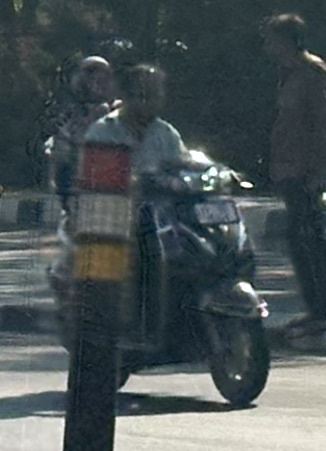BikeWithRider: (29, 47, 277, 412)
NoHelmet: (120, 63, 171, 132), (71, 55, 114, 111)
